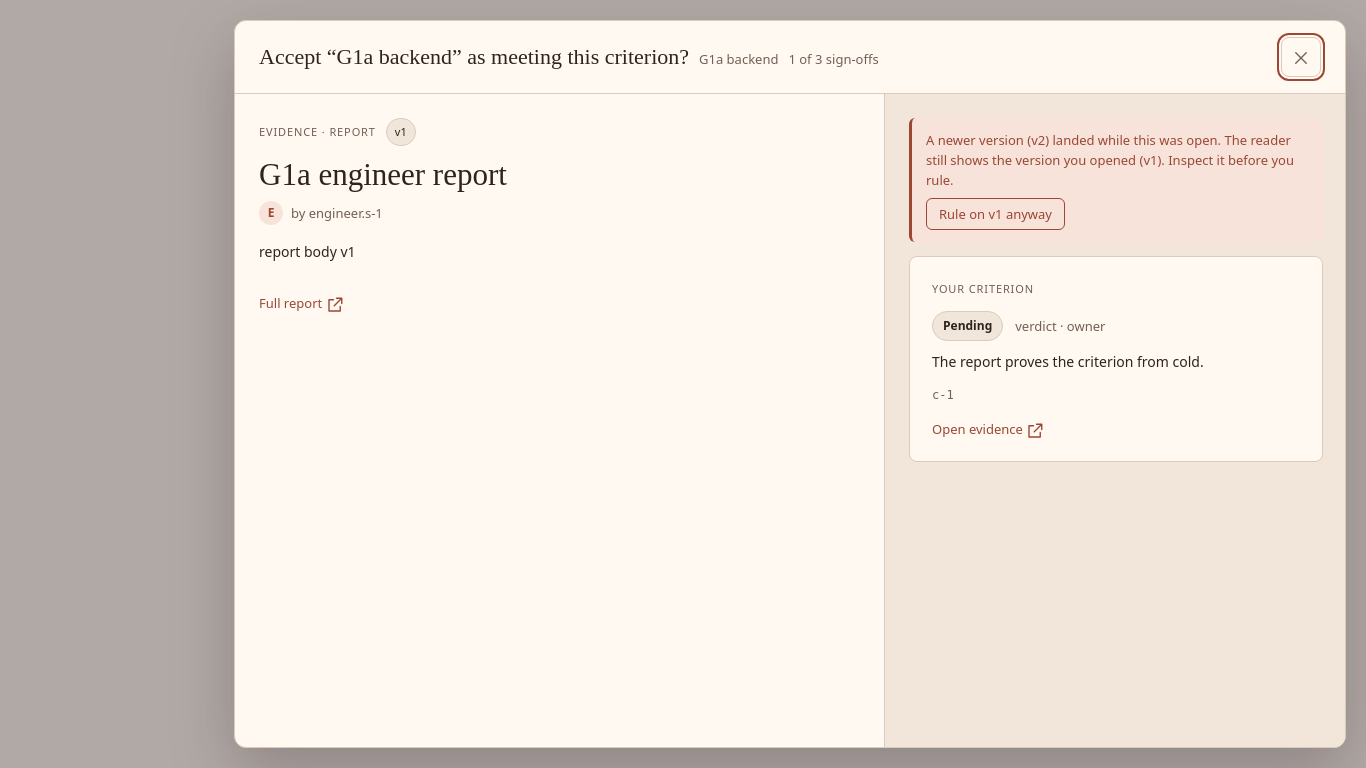
Test: RulingDrawer › a newer version → banner, content NOT swapped, and ruling requires 'rule anyway'
expect the message with test id "newer-version-banner" is shown: met, box [909,118,1323,242]
expect the text "report body v1" is shown: met, box [259,242,356,261]
Step 1. Click the button "Rule on v1 anyway" → point(996, 214), box [926,198,1065,230]
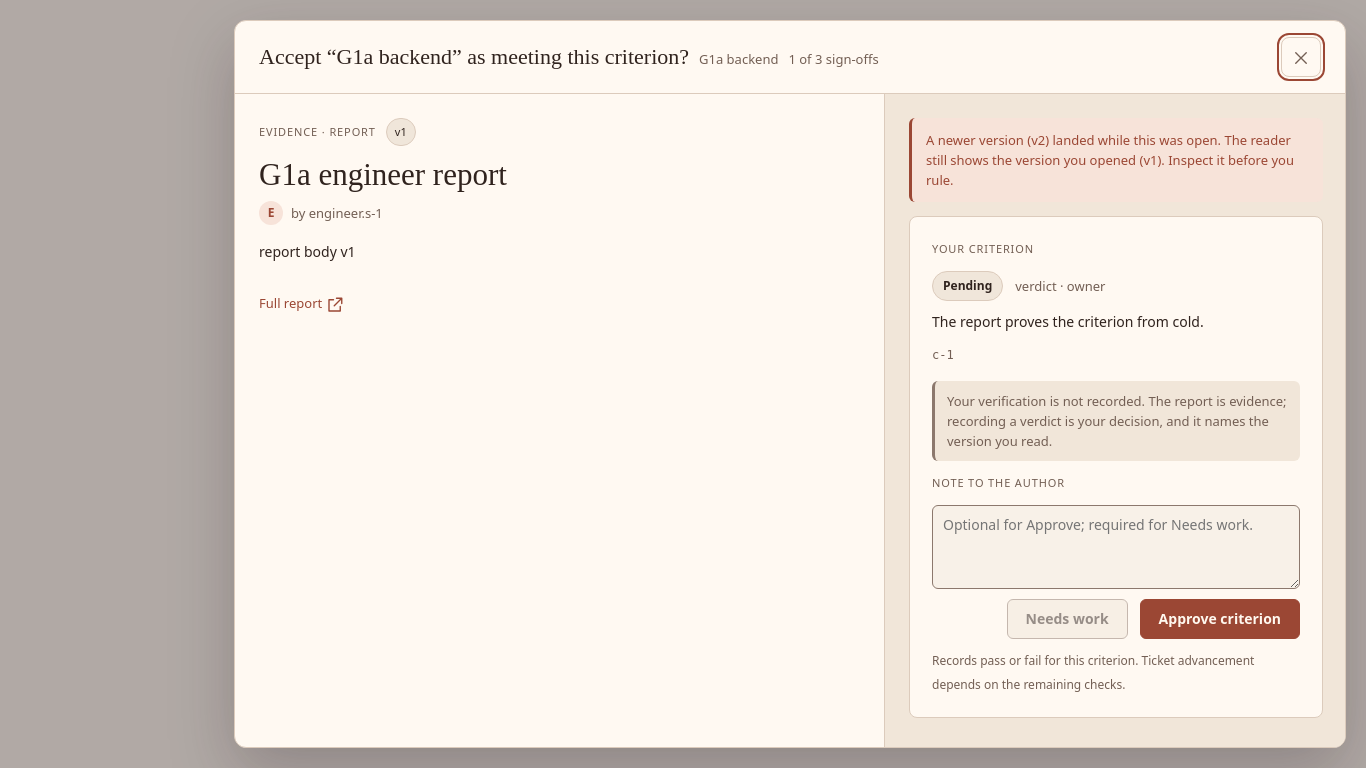
expect the button with test id "approve" is shown: met, box [1140,599,1300,639]
